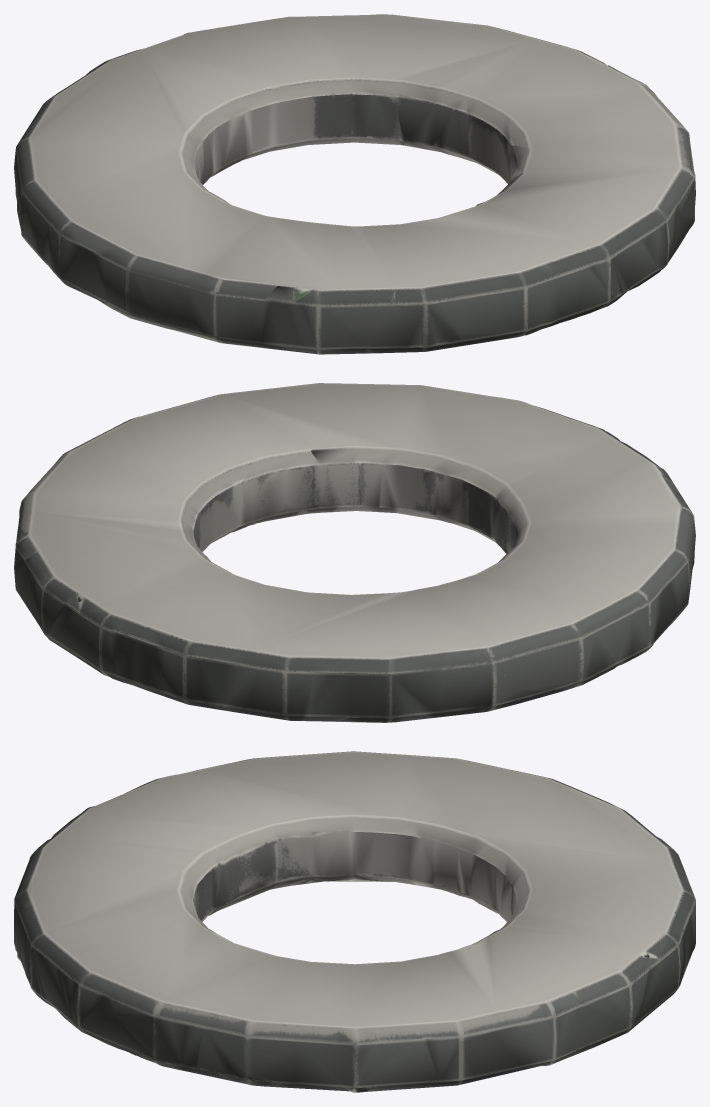
Rendered from 16_debris_washer.fbx.
3 renders of one model, top to bottom at view 1: azimuth 30°, elevation 25°; view 2: azimuth 150°, elevation 25°; view 3: azimuth 270°, elevation 25°, orthographic.
Visible parts, largest first — view 1: 16_debris_washer; view 2: 16_debris_washer; view 3: 16_debris_washer.
Boxes of the visible parts, <box> form: 16_debris_washer: <box>14,14,695,354</box>; 16_debris_washer: <box>14,383,695,722</box>; 16_debris_washer: <box>14,751,695,1092</box>.
Bounding box in the file's own units: 0.1 × 0.0104 × 0.1.
1 material, 1 textured.
